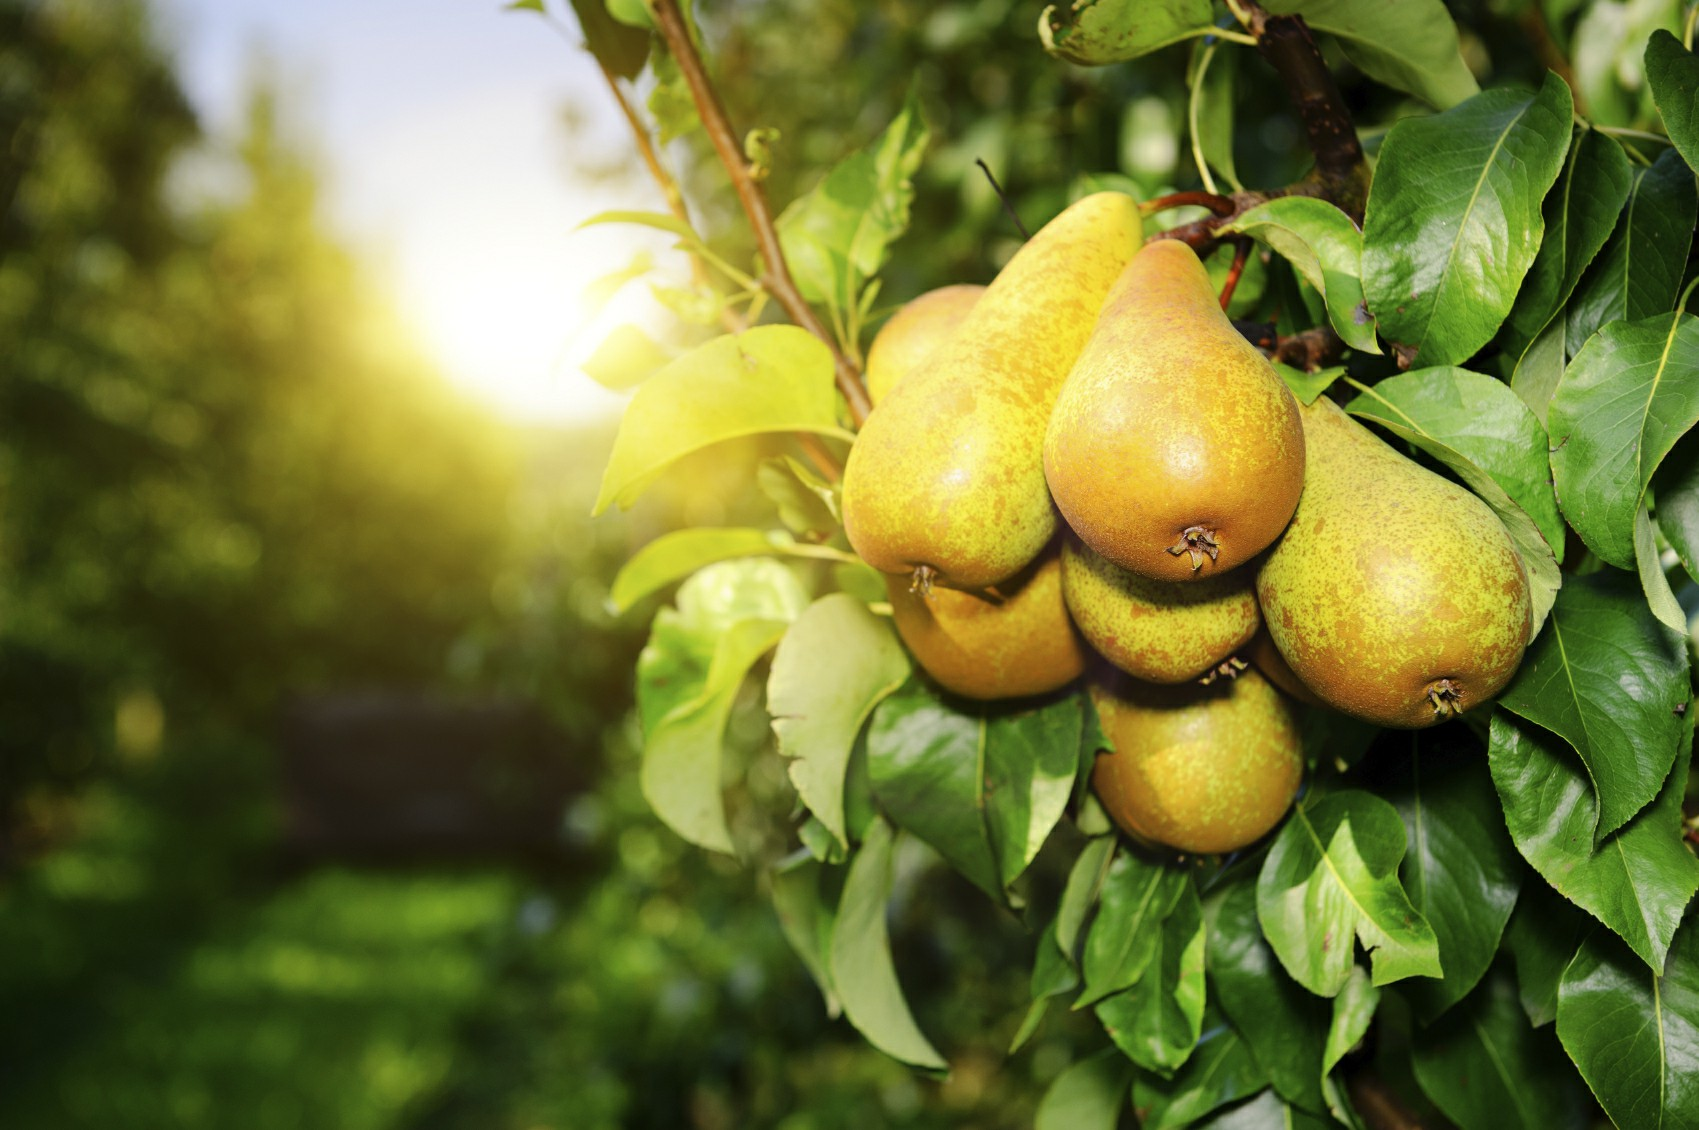pear: (843, 194, 1141, 581), (1258, 346, 1527, 724), (1036, 230, 1312, 585), (1063, 632, 1303, 861), (1062, 492, 1259, 690), (893, 506, 1083, 702)
